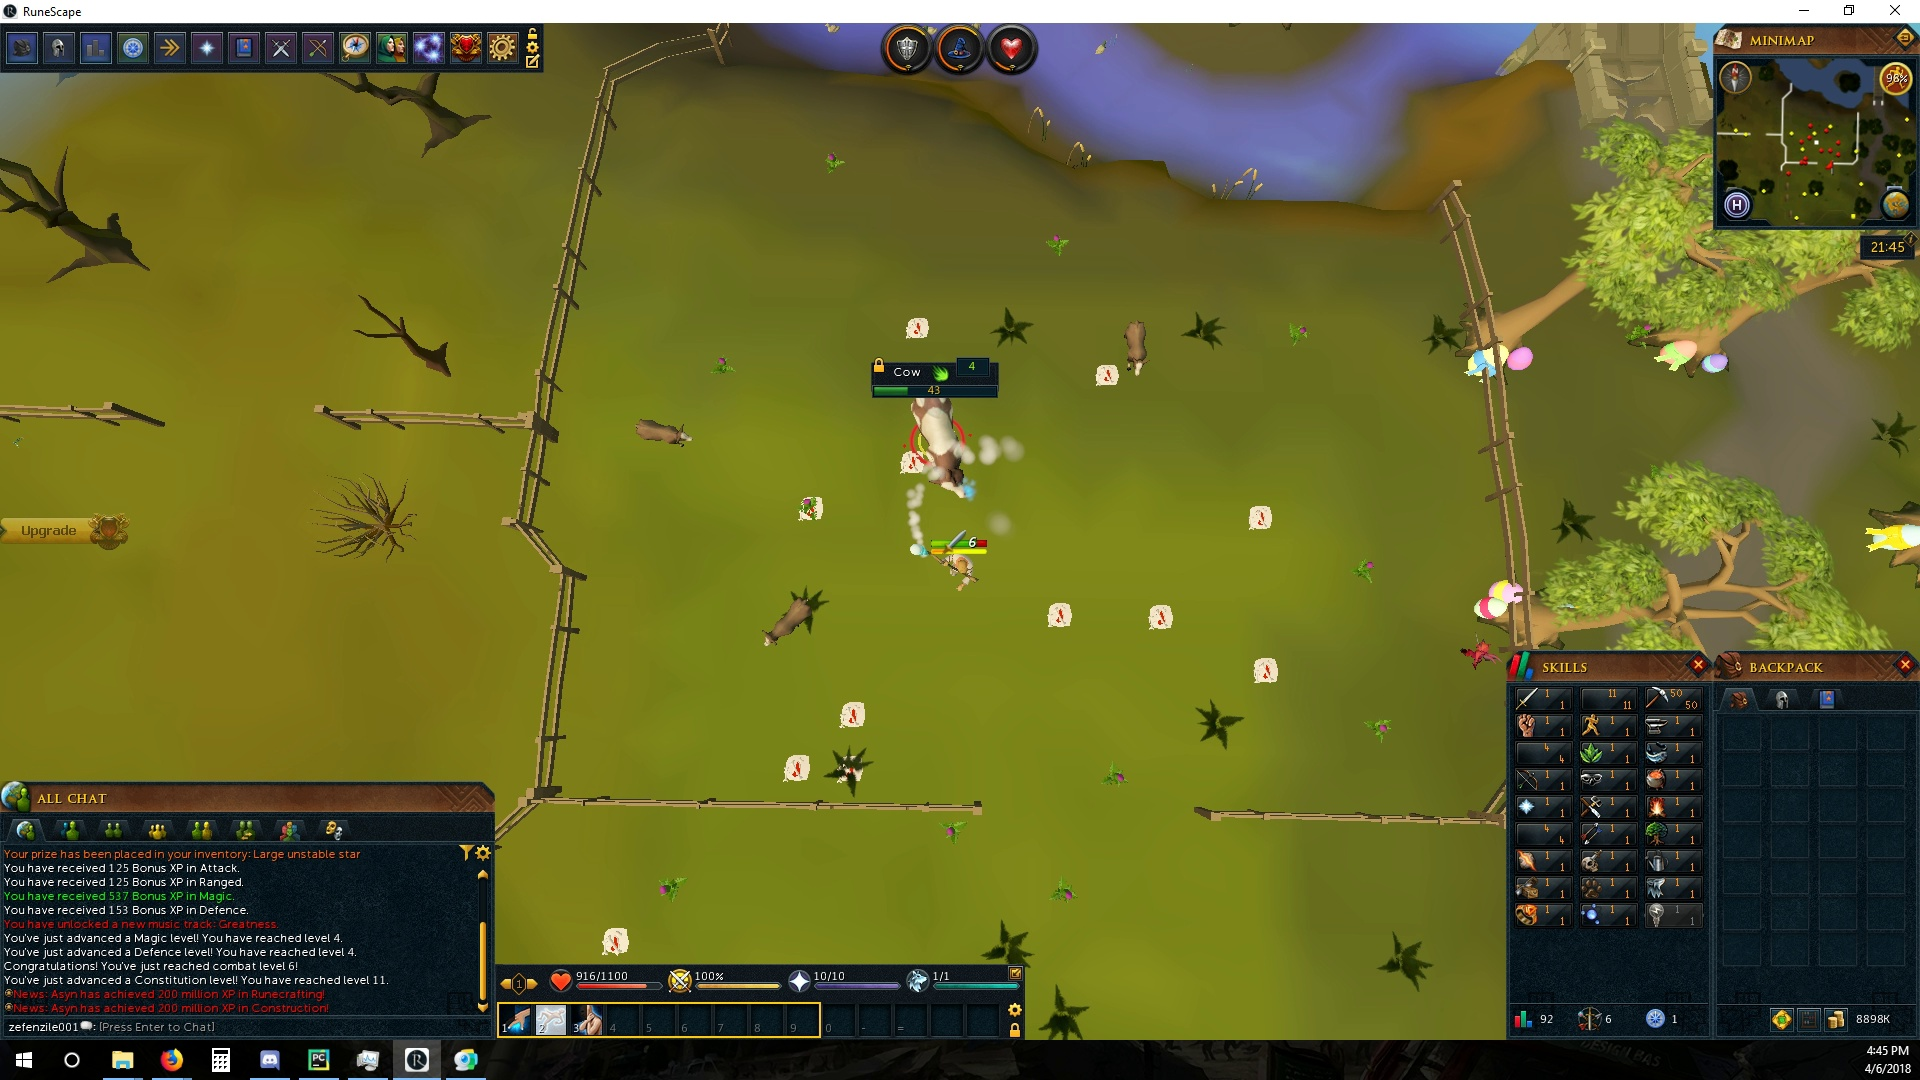calf: (754, 595, 818, 649), (632, 417, 698, 448), (1120, 319, 1150, 378)
cow: (901, 398, 985, 502)
cow_drop: (831, 756, 868, 789), (1145, 597, 1176, 632), (777, 753, 814, 782), (597, 924, 629, 957), (1250, 655, 1282, 687), (1244, 502, 1275, 533), (837, 698, 870, 727), (902, 315, 936, 342), (895, 452, 928, 479), (794, 496, 825, 522), (1043, 601, 1075, 628), (1095, 363, 1126, 386)
